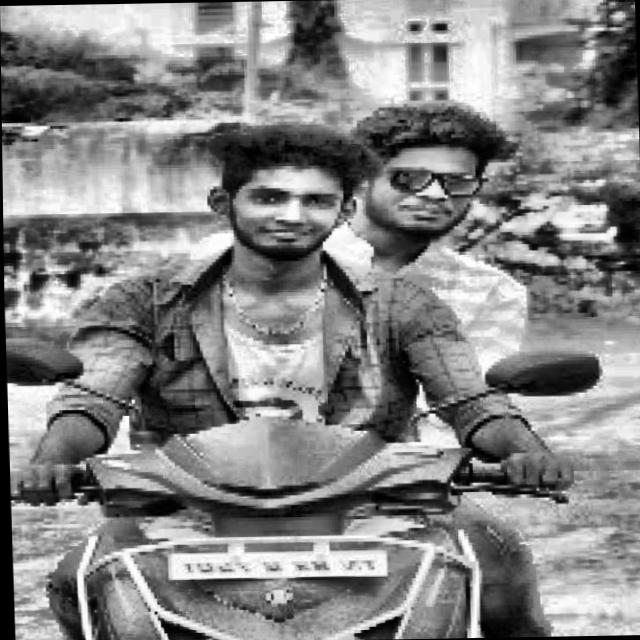motorcycle: (4, 309, 631, 640)
